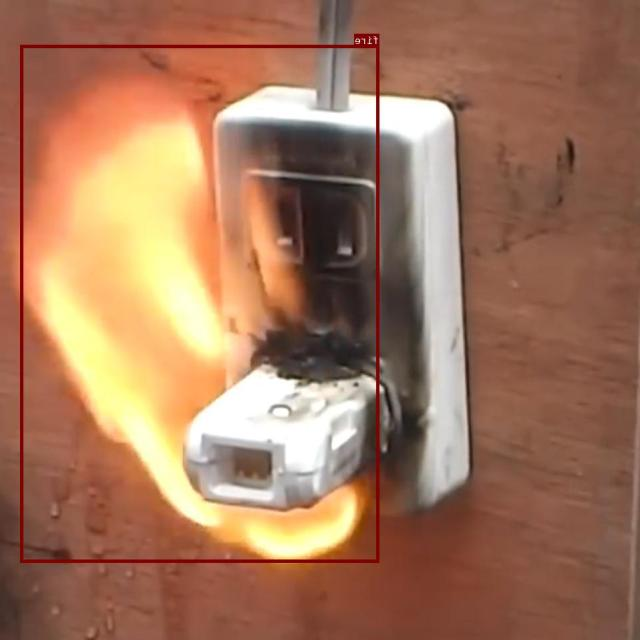fire: (21, 44, 380, 562)
